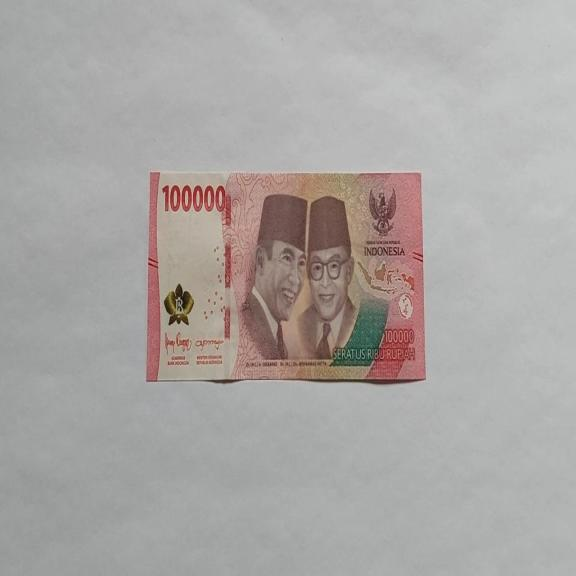Kertas: (146, 169, 426, 385), (160, 182, 226, 214)
